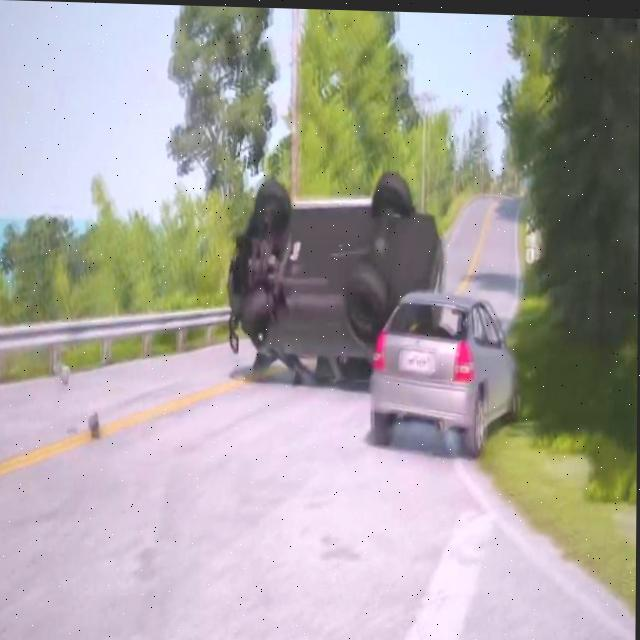multiple_accident: (233, 135, 502, 490)
